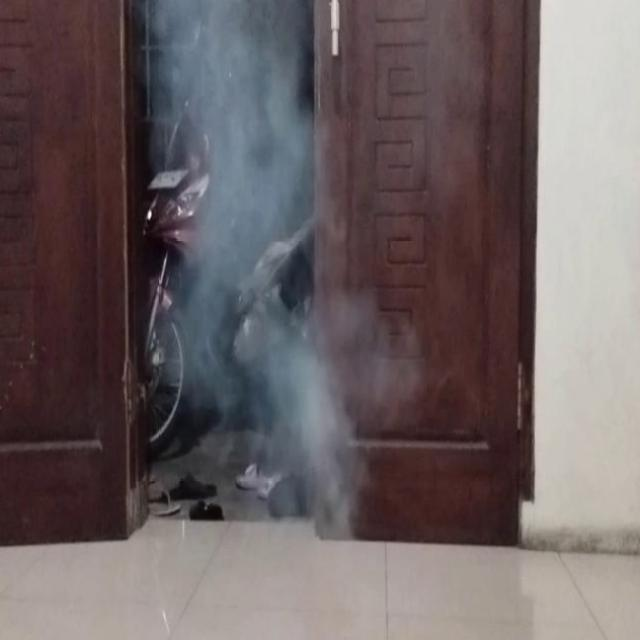fire: (152, 0, 364, 529)
